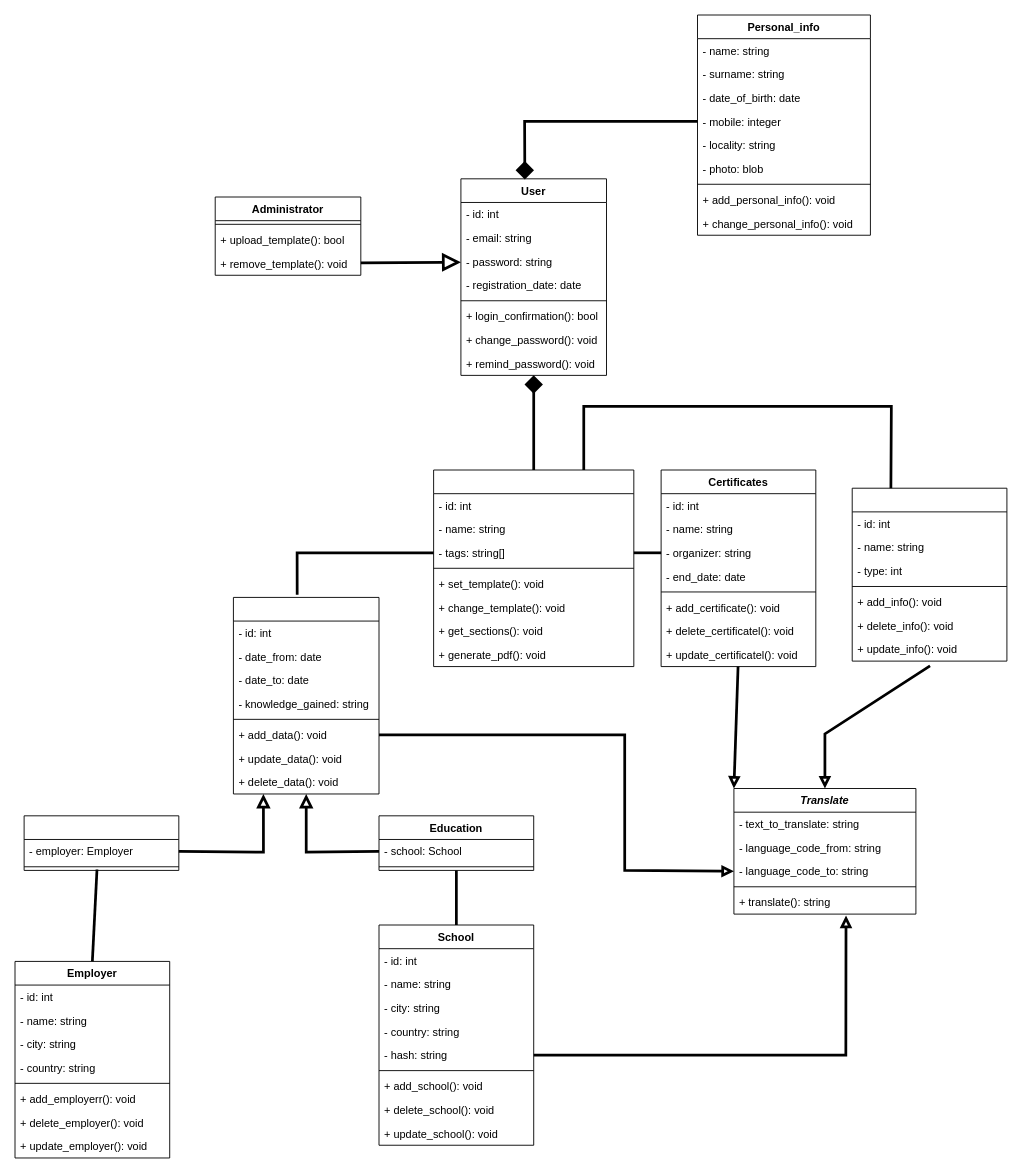
Image size: 1022x1173. Some labels were removed from this diagram. The box of each missing label's shape, as (x1, y1, x2, y2) in pixels:
AdditionalInfo: (851, 487, 1007, 661)
Experience: (233, 597, 379, 794)
Resume: (433, 469, 634, 667)
Work_info: (23, 815, 179, 870)
